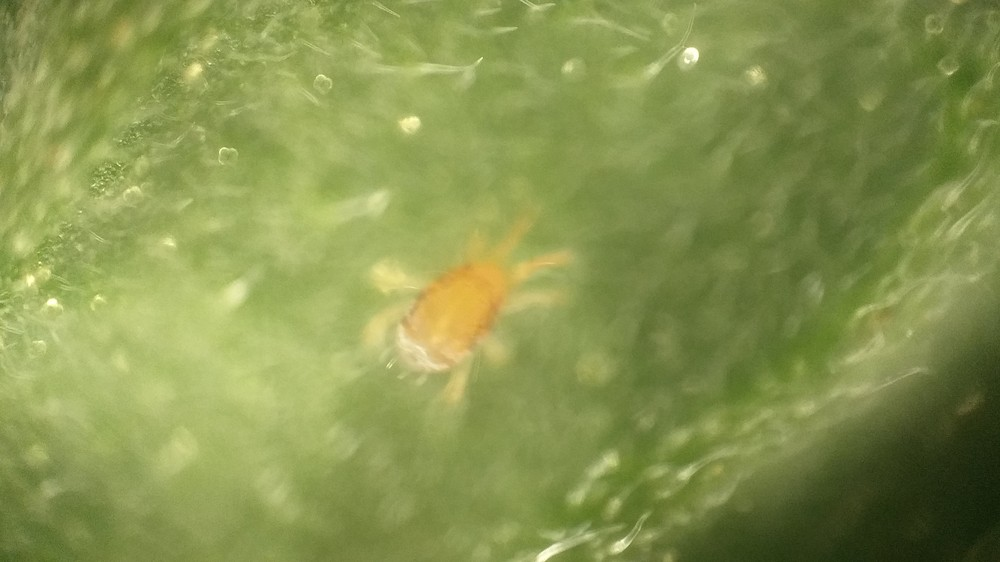Aracnido Rojo: (350, 199, 572, 397)
